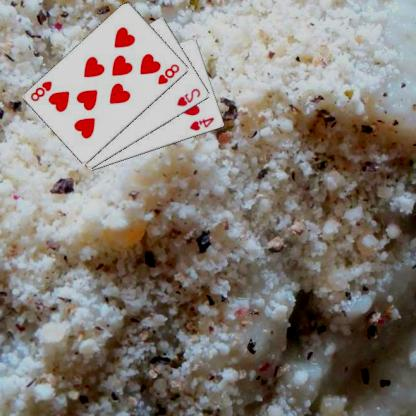2H: (176, 86, 204, 108)
4H: (189, 115, 218, 132)
8H: (157, 61, 183, 86), (30, 78, 55, 102)
